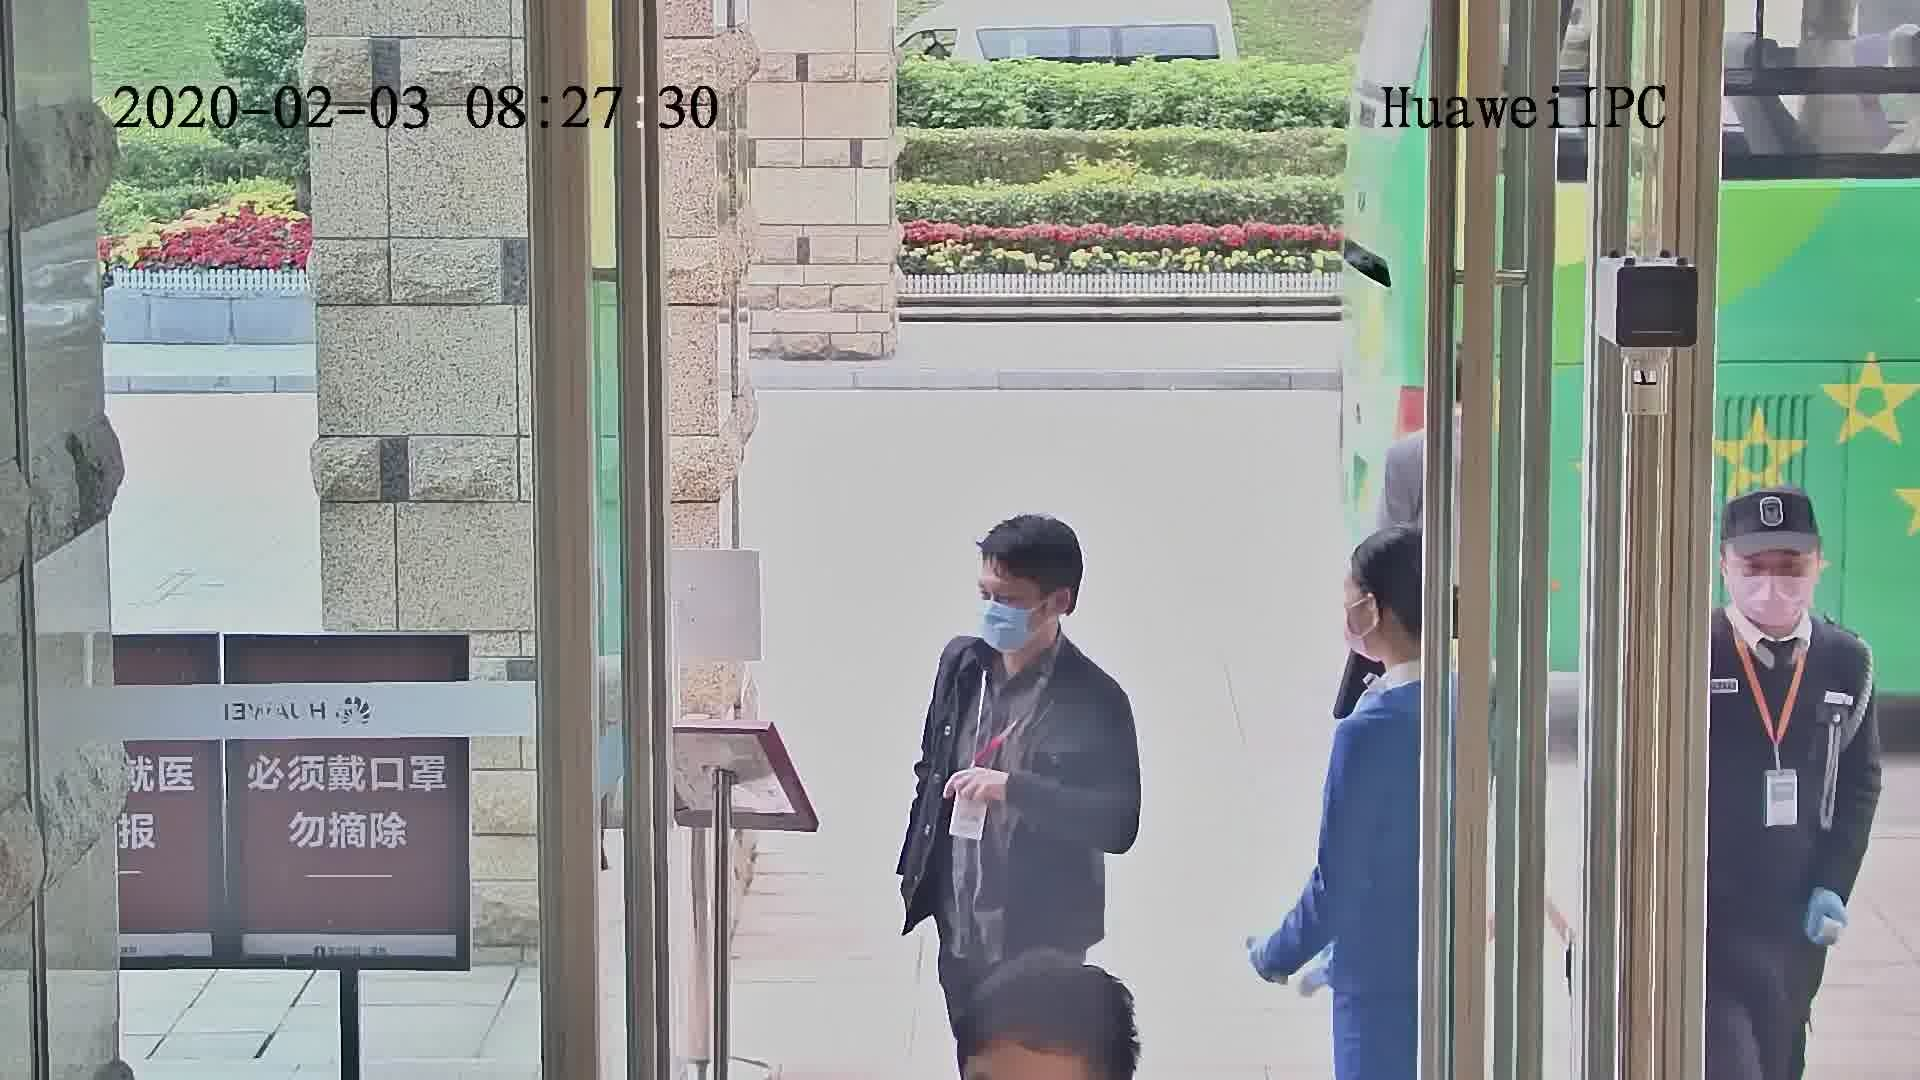face: (976, 558, 1047, 660), (1729, 551, 1814, 626)
mask: (1734, 571, 1820, 626), (976, 598, 1040, 655)
person: (923, 507, 1137, 720), (1704, 472, 1868, 719), (1338, 512, 1433, 774)
